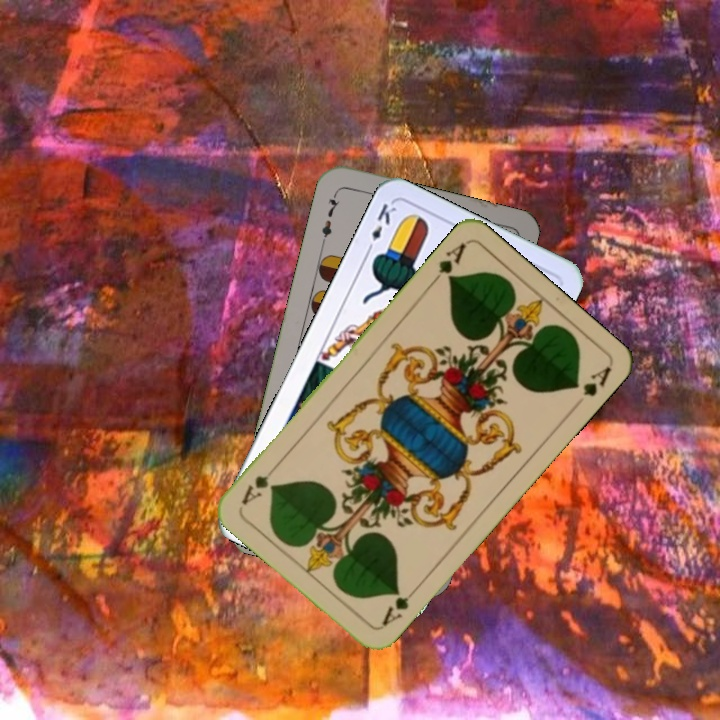E7: (317, 188, 341, 247)
EK: (362, 199, 399, 256)
GA: (377, 582, 421, 631), (426, 239, 469, 289)
